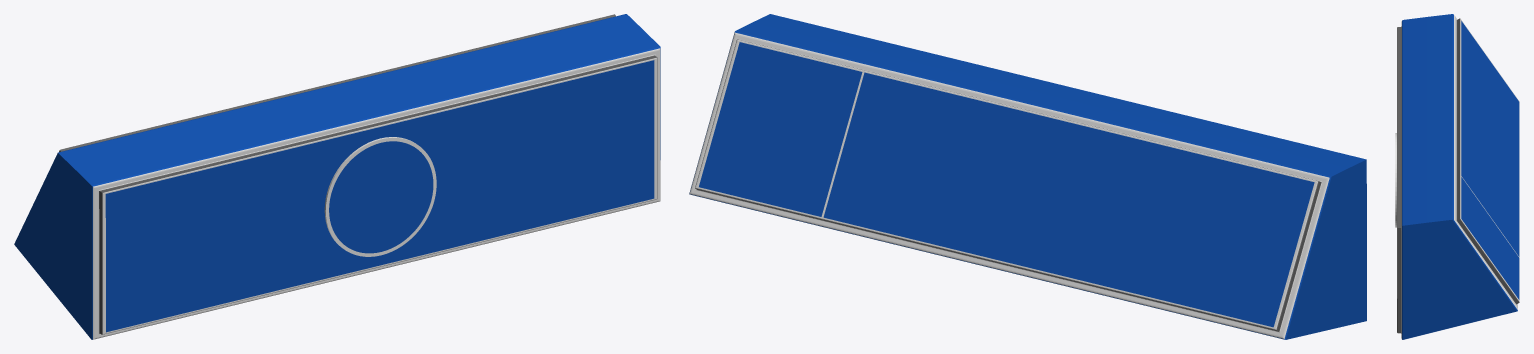
File: AnswerPanel.glb
3 views of the same model, side by side, from view 1: azimuth 30°, elevation 25°; view 2: azimuth 150°, elevation 25°; view 3: azimuth 270°, elevation 25° (orthographic). The views are drawn at different scales.
Visible parts, largest first — view 1: Cube, Cylinder; view 2: Cube; view 3: Cube, Cylinder.
Part boxes in pixels (<box>): Cube: <box>14,14,660,339</box>; Cylinder: <box>324,137,436,256</box>; Cube: <box>689,14,1366,339</box>; Cube: <box>1397,14,1519,339</box>; Cylinder: <box>1395,133,1396,227</box>.
Bounding box in the file's own units: 2 × 0.545 × 0.5109.
